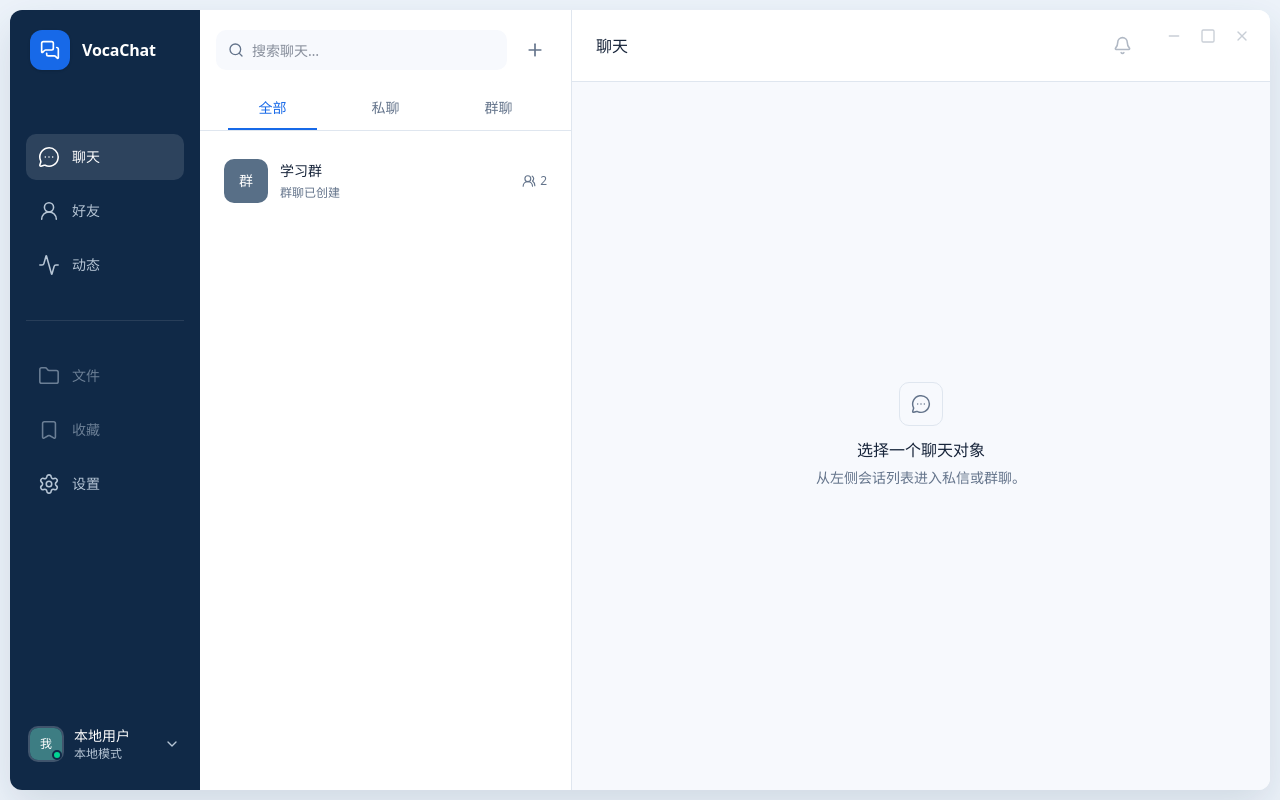
Test: VocaChatApp › 切换到好友区域后仍保留聊天草稿
Click the button "群 学习群 群聊已创建 2": (246, 181) [212,147,559,215]
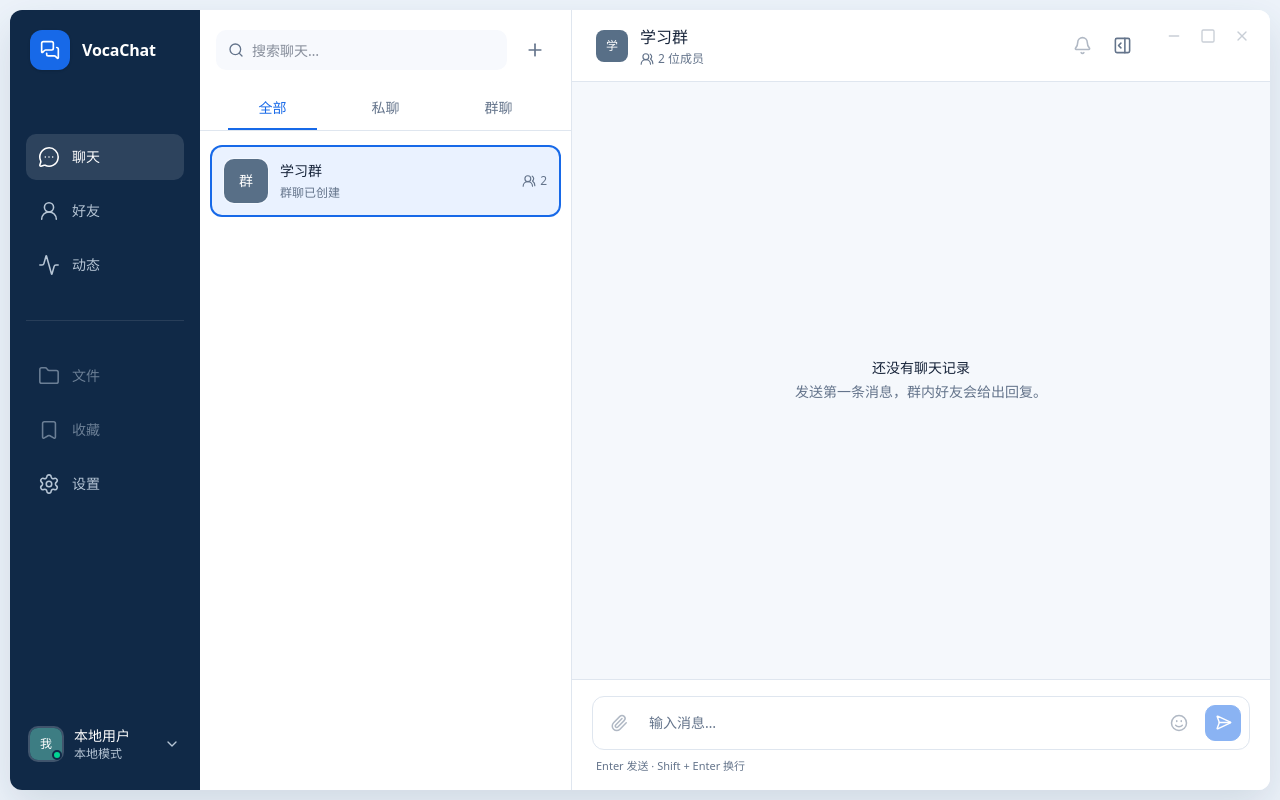
In the text box named "消息内容": (899, 722) [645,704,1153,740], type "尚未发送的草稿"
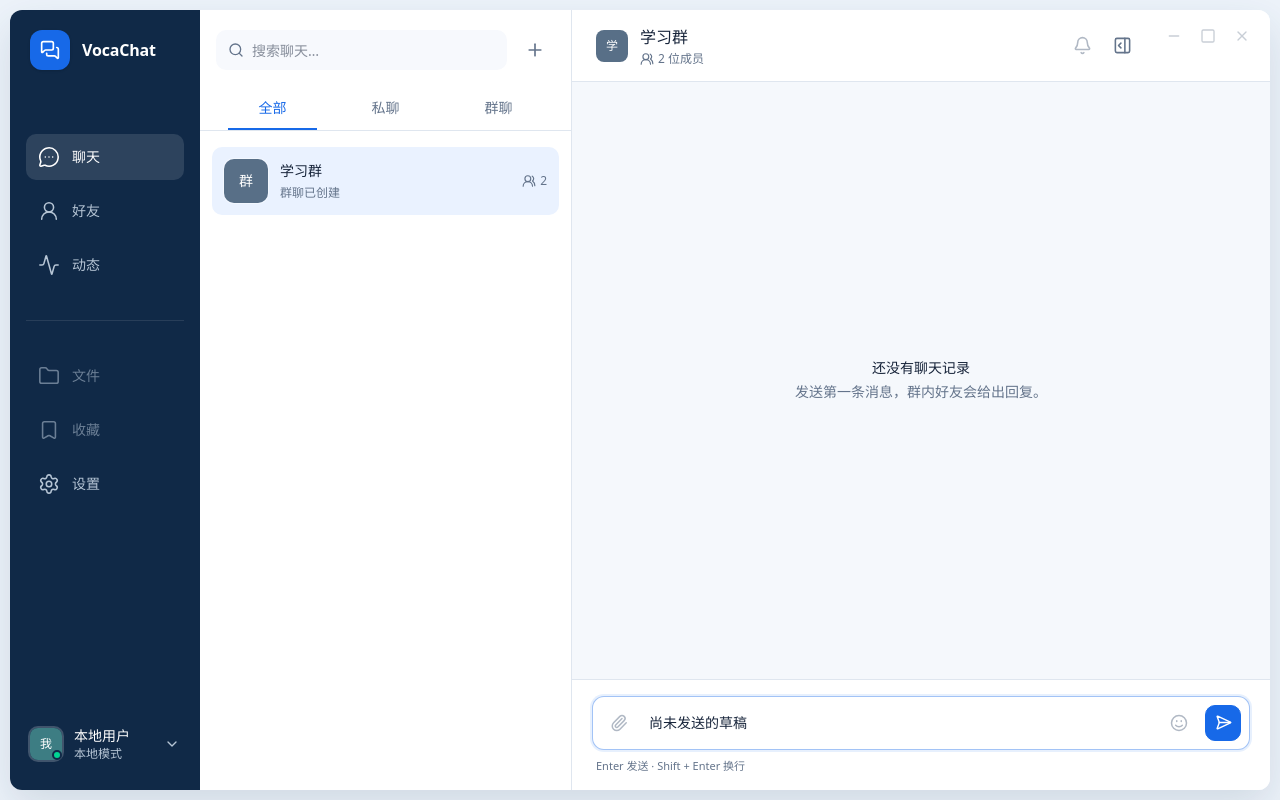
Click the button "好友": (105, 211) [26,188,184,234]
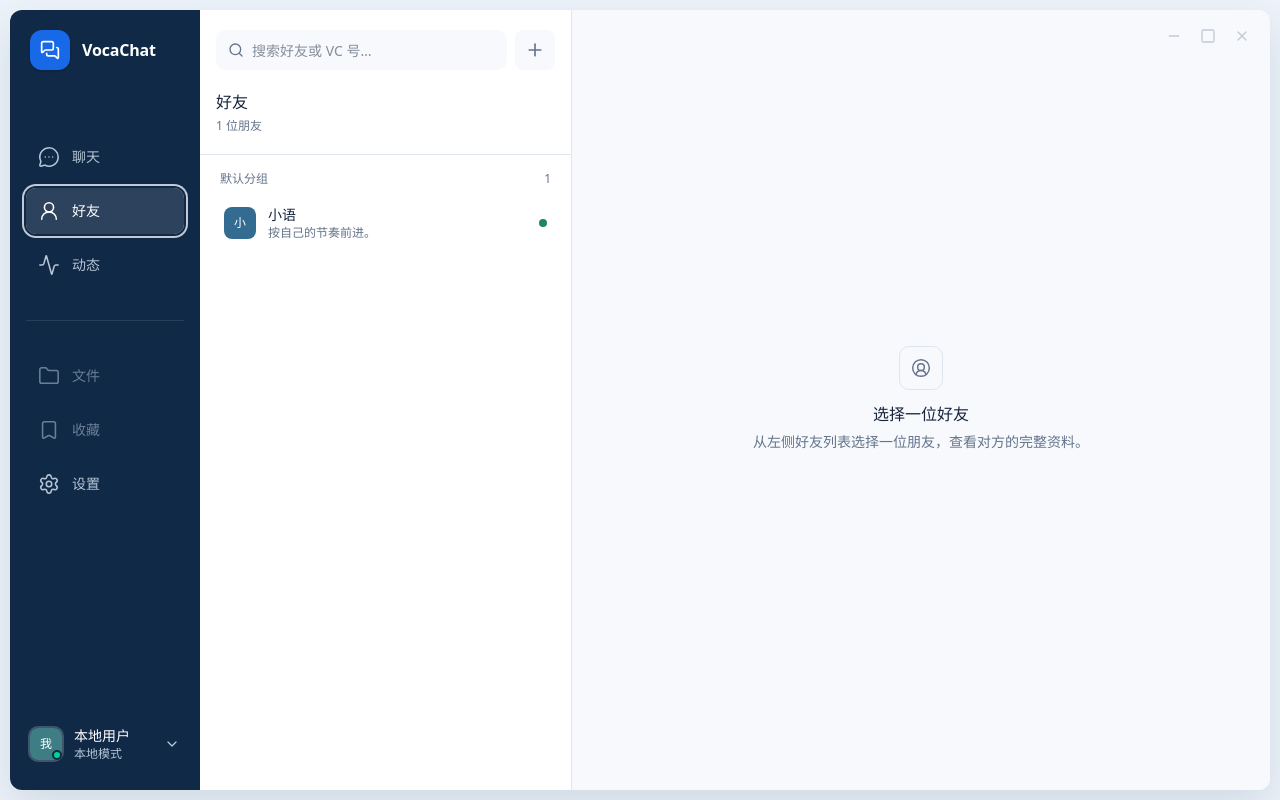
Expected: the heading "好友" is shown, [216,91,248,113]
Click the button "聊天": (105, 157) [26,134,184,180]
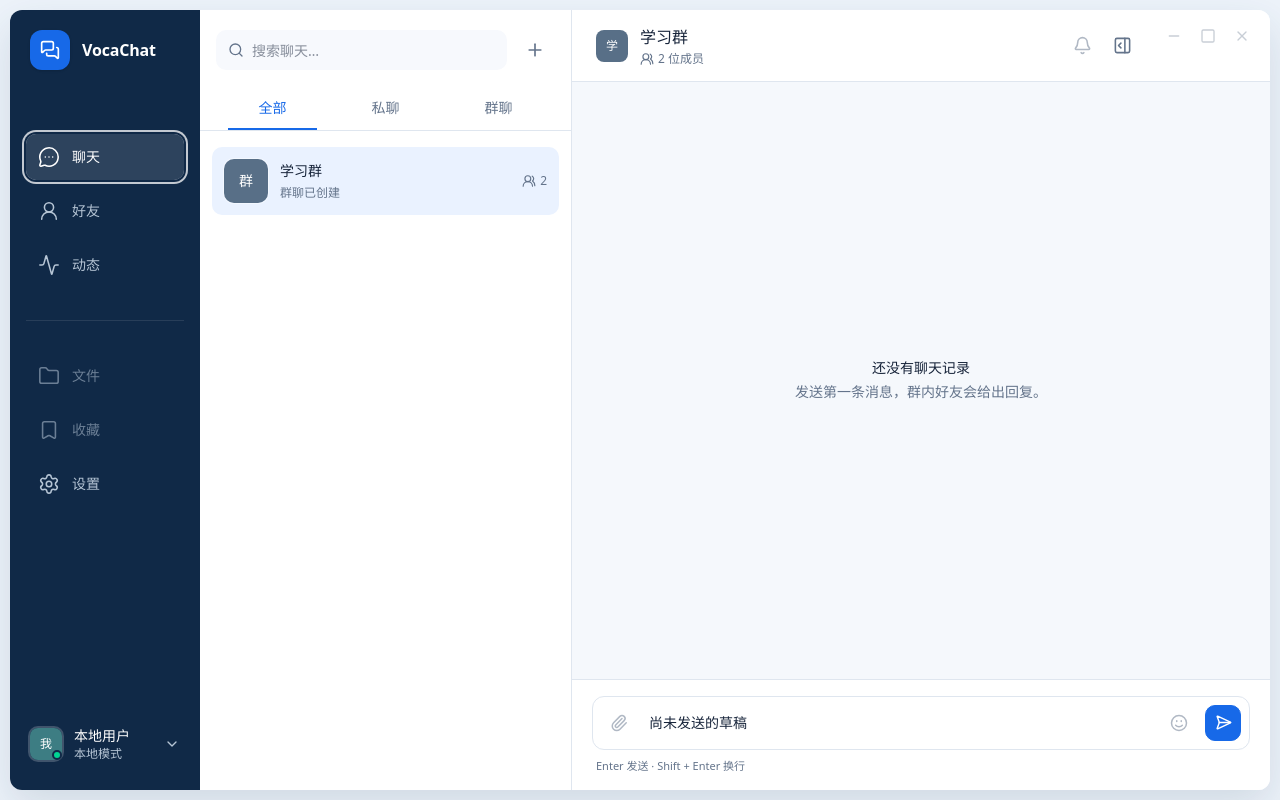
Expected: the text box named "消息内容" holds "尚未发送的草稿", [645,704,1153,740]
